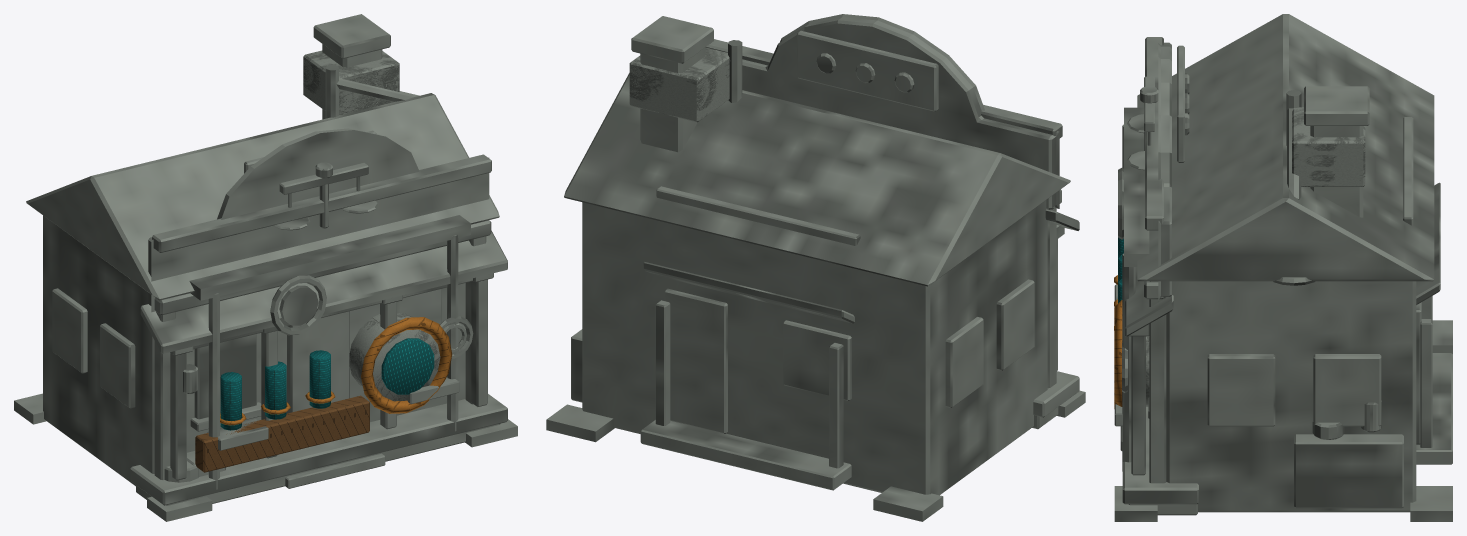
File: assay-office.e8.glb
The picture shows the model from 3 angles, left to right: view 1: azimuth 30°, elevation 25°; view 2: azimuth 150°, elevation 25°; view 3: azimuth 270°, elevation 25°; orthographic projection. The views are drawn at different scales.
Visible parts, largest first — view 1: AssayOfficeE8RegolithWorks; view 2: AssayOfficeE8RegolithWorks; view 3: AssayOfficeE8RegolithWorks.
Part boxes in pixels (left/top/right/bottom): AssayOfficeE8RegolithWorks: left=14, top=14, right=517, bottom=521; AssayOfficeE8RegolithWorks: left=546, top=14, right=1085, bottom=521; AssayOfficeE8RegolithWorks: left=1114, top=14, right=1452, bottom=521.
Size of the model in its own units: 4.42 by 4.2 by 3.33.
Materials: 1 (1 with a texture image).
